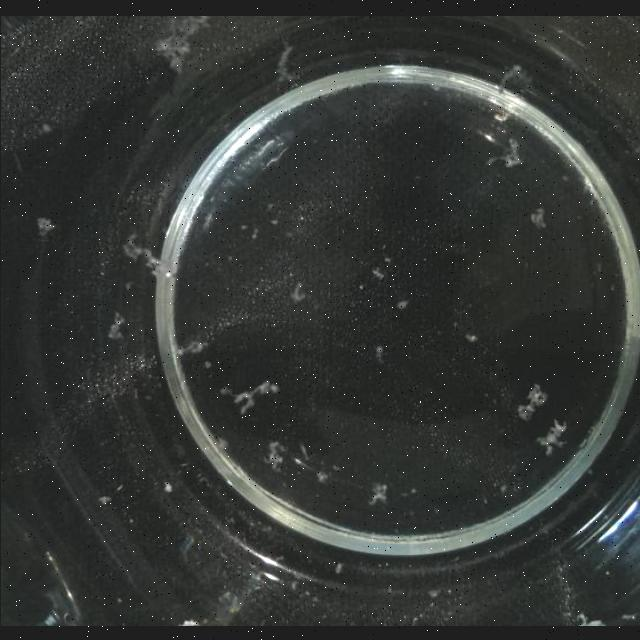Fibre: (150, 15, 208, 66), (120, 232, 166, 274), (222, 380, 276, 414), (485, 135, 523, 169), (514, 384, 548, 421), (536, 418, 568, 454), (499, 62, 528, 92), (274, 43, 296, 79), (262, 438, 284, 469), (175, 339, 209, 356), (106, 311, 124, 339), (367, 482, 387, 506), (289, 280, 305, 302), (530, 206, 546, 228), (374, 344, 384, 362), (371, 267, 384, 279), (464, 332, 476, 342), (396, 298, 408, 308)
microbeads: (35, 215, 55, 235), (97, 494, 111, 504), (163, 482, 173, 492)
